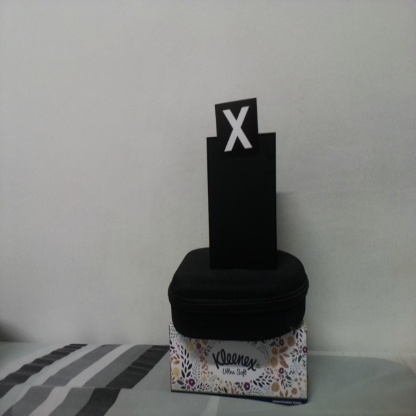id_13: (215, 104, 258, 160)
